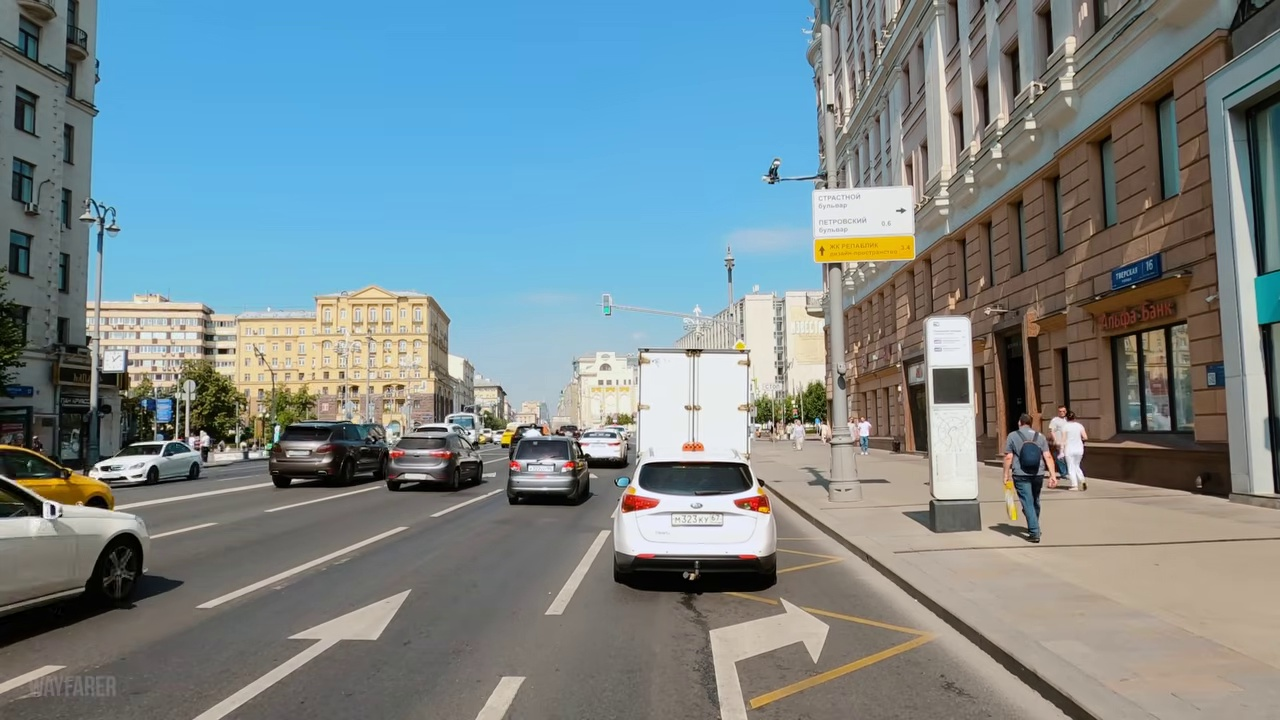acesa: (448, 357, 468, 379)
apagada: (87, 201, 121, 240)
